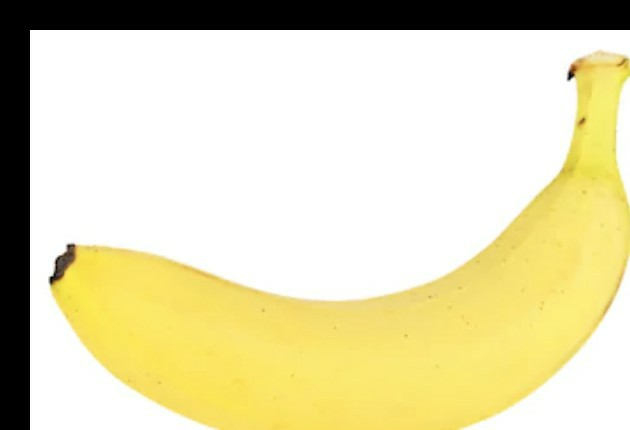fresh_banana: (56, 69, 630, 430)
